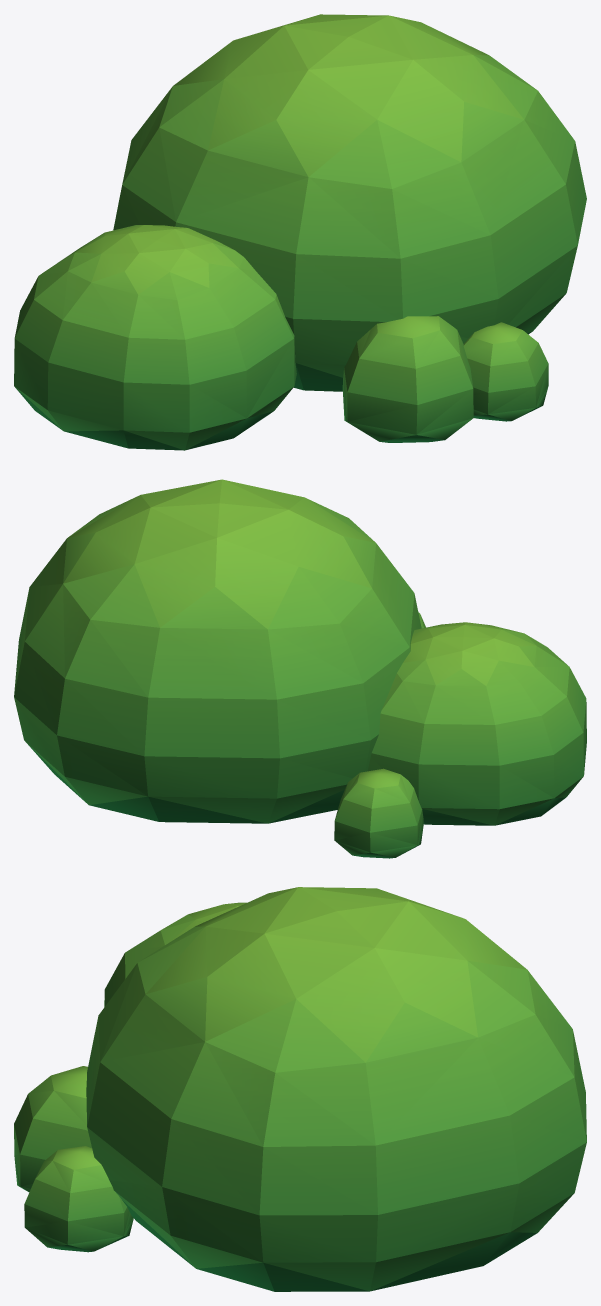
The model's file is kf_bush_1_e.fbx.
3 views of the same model, one above another, from view 1: azimuth 30°, elevation 25°; view 2: azimuth 150°, elevation 25°; view 3: azimuth 270°, elevation 25° (orthographic). The views are drawn at different scales.
Visible parts, largest first — view 1: kf_bush_1_e_LOD0; view 2: kf_bush_1_e_LOD0; view 3: kf_bush_1_e_LOD0.
Boxes of the visible parts, x1,y1,x2,y2 form: kf_bush_1_e_LOD0: (14,14,586,450); kf_bush_1_e_LOD0: (14,479,586,858); kf_bush_1_e_LOD0: (14,887,586,1291).
Size of what is drawn, in the model's own units: 2.52 by 1.29 by 2.11.
